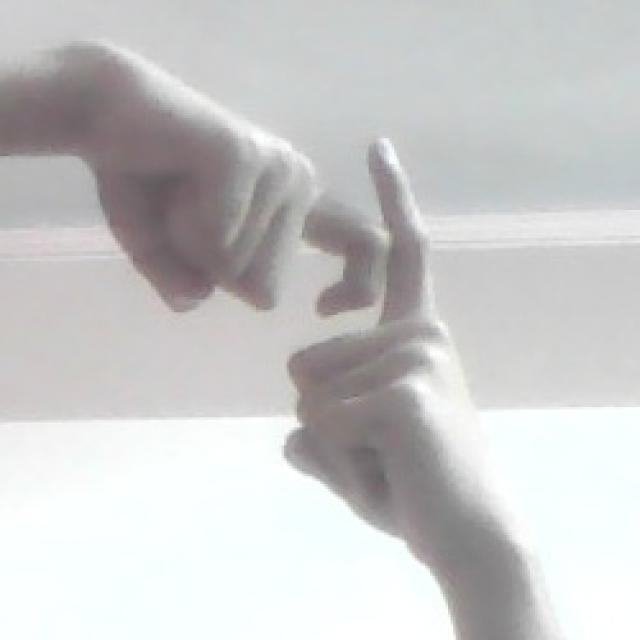Alphabet-K: (78, 35, 490, 563)
